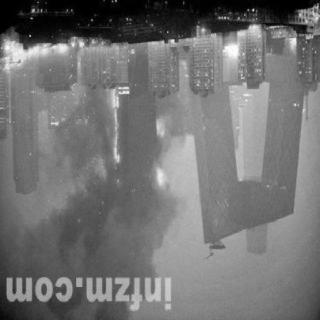Smoke: (18, 199, 162, 319)
